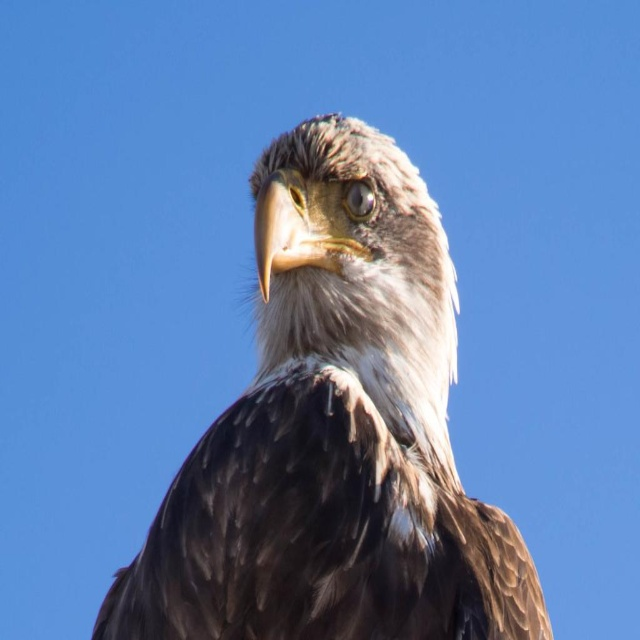Eagle: (87, 109, 556, 639)
